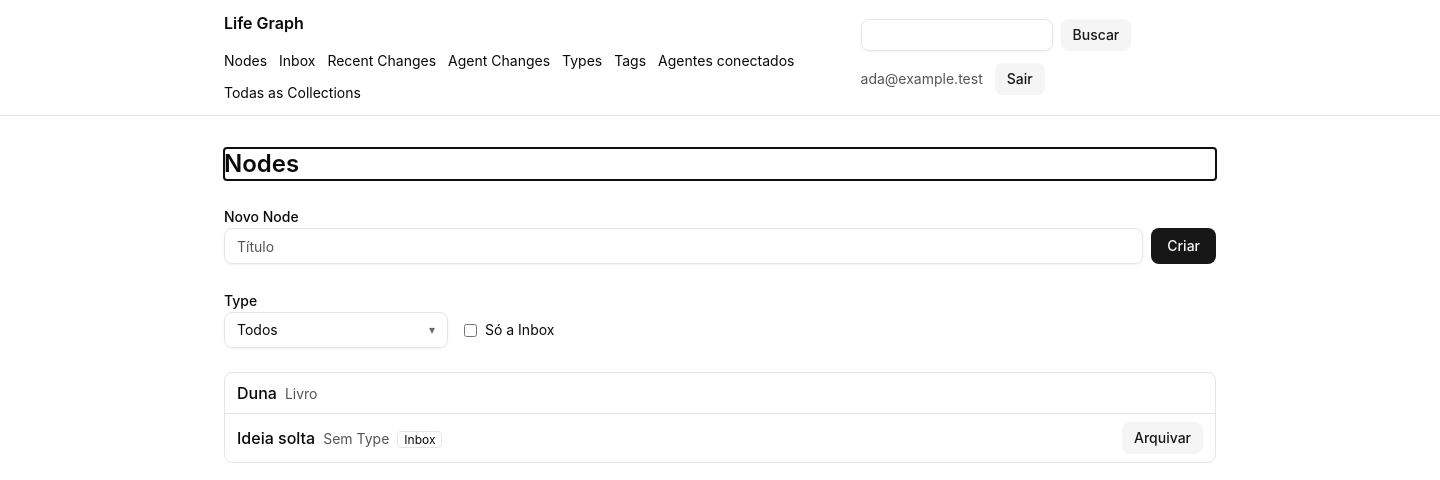
Test: node list › filters the Nodes without a Type, keeping the filter in the URL
Expected: the list named "Nodes" is shown, [224,372,1216,463]
Click the dropdown named "Type" at (336, 330), box [224,312,448,348]
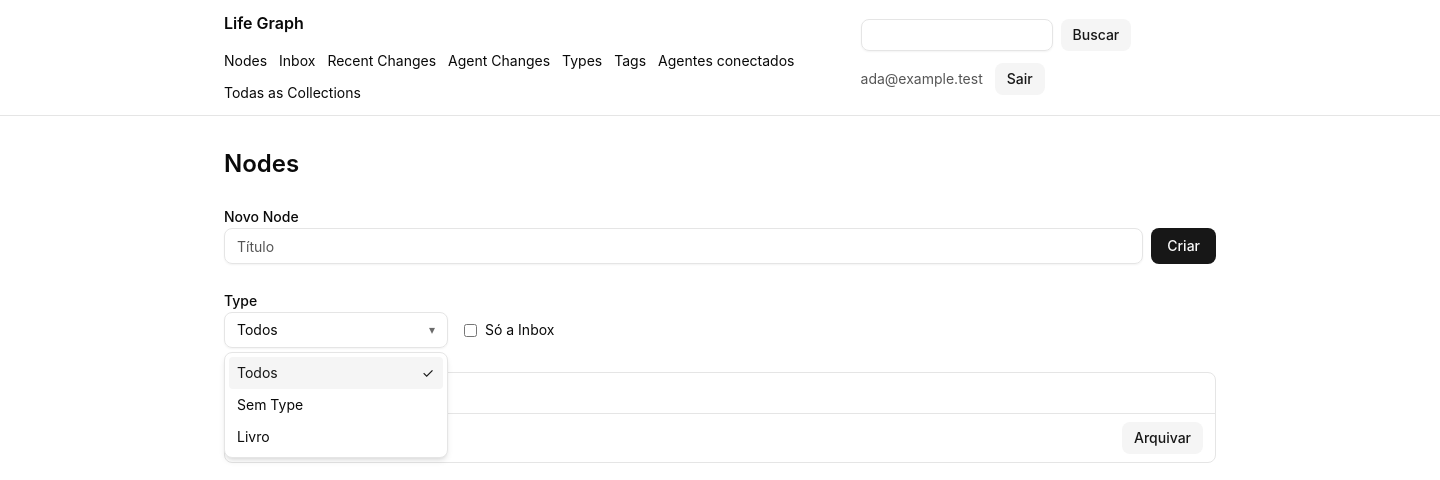
Click the option "Sem Type" at (270, 404), box [237,396,303,413]
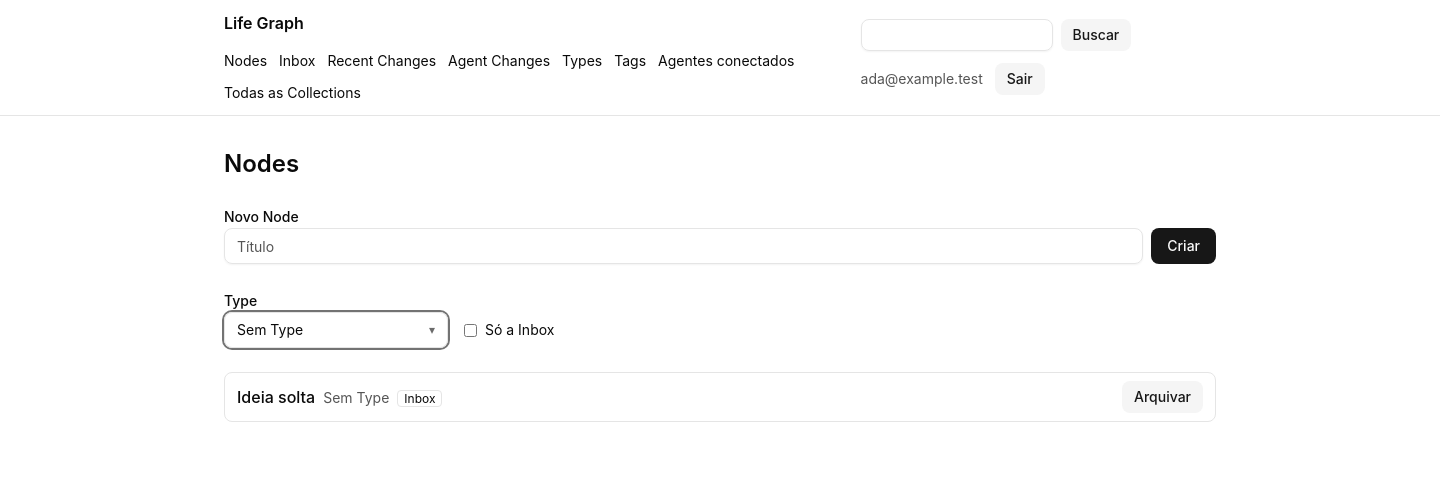
Expected: the link "Ideia solta" is shown, [237,387,315,407]
Expected: the link "Duna" is gone
